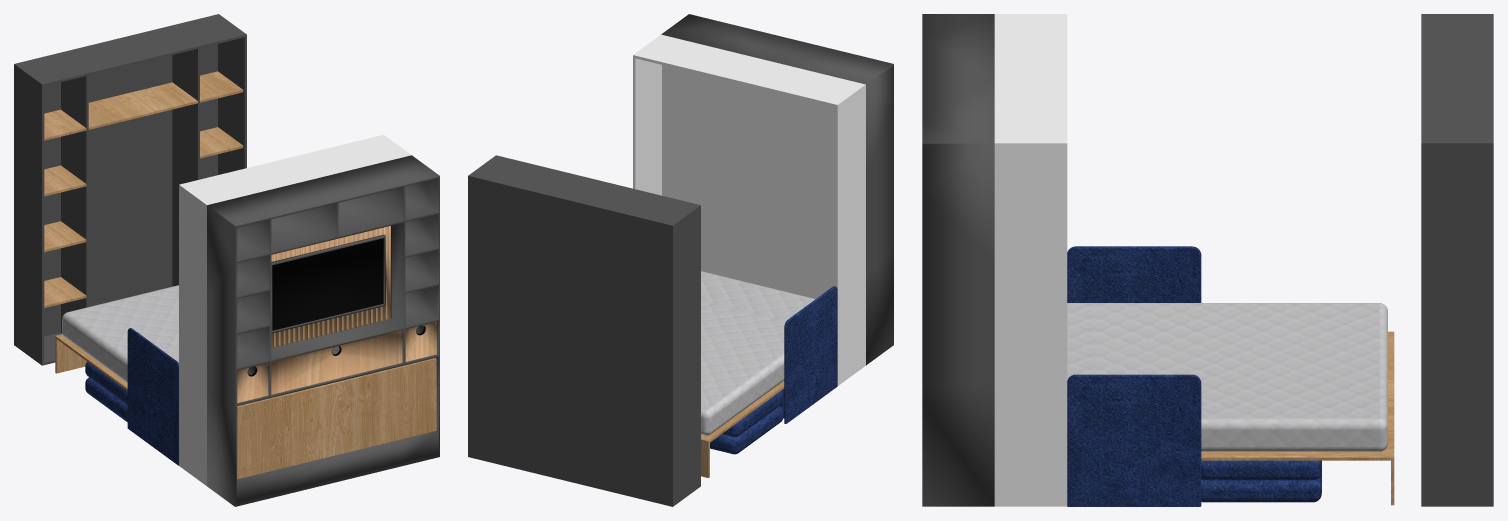
Rendered from bureaum_bedm_kast.gltf.
The picture shows the model from 3 angles, left to right: view 1: azimuth 30°, elevation 25°; view 2: azimuth 150°, elevation 25°; view 3: azimuth 270°, elevation 25°; orthographic projection. The views are drawn at different scales.
Visible parts, largest first — view 1: bureaum_bedm_kast; view 2: bureaum_bedm_kast; view 3: bureaum_bedm_kast.
Boxes of the visible parts, bbox=[...] form: bureaum_bedm_kast: bbox=[14, 14, 439, 506]; bureaum_bedm_kast: bbox=[468, 14, 893, 506]; bureaum_bedm_kast: bbox=[922, 14, 1493, 506].
Size of the model in its own units: 1690 by 2211 by 3150.
10 materials, 6 textured.
